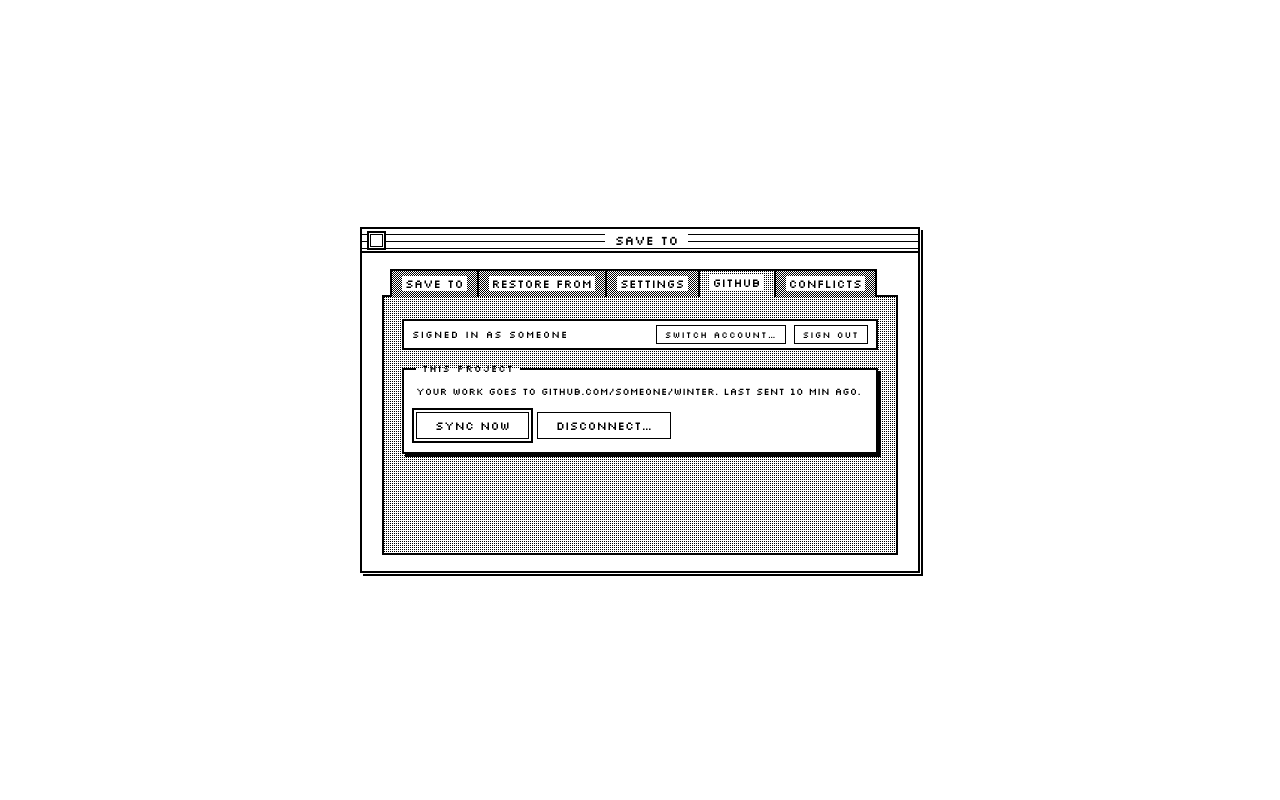
Test: the GitHub tab › shows where the work goes, and sends it on Sync Now
Expected: the text "Your work goes to github.com/someone/winter" is shown, x1=416 y1=383 x2=864 y2=401
Expected: the text "Last sent 10 min ago" is shown, x1=724 y1=385 x2=861 y2=398
Click the button "Sync Now": (472, 426) x1=416 y1=412 x2=529 y2=439
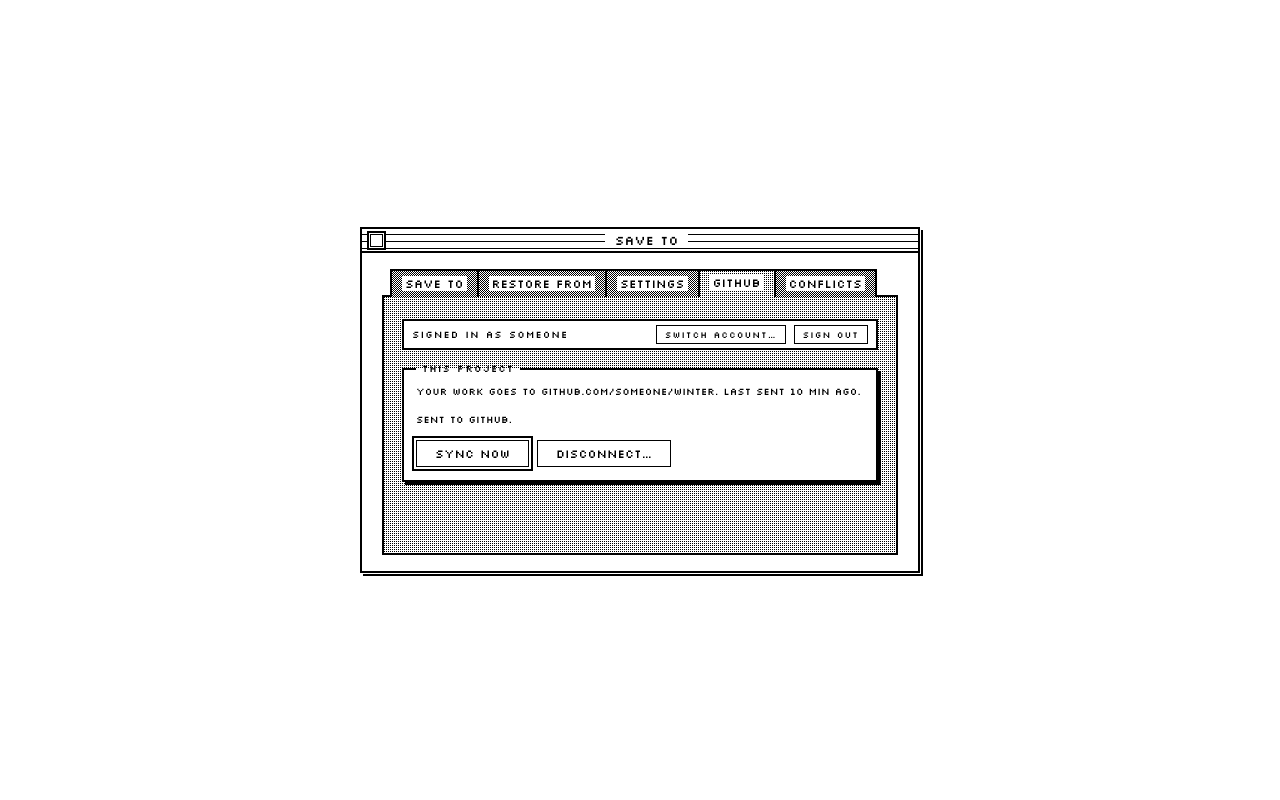
Expected: the text "Sent to GitHub." is shown, x1=416 y1=413 x2=512 y2=426
